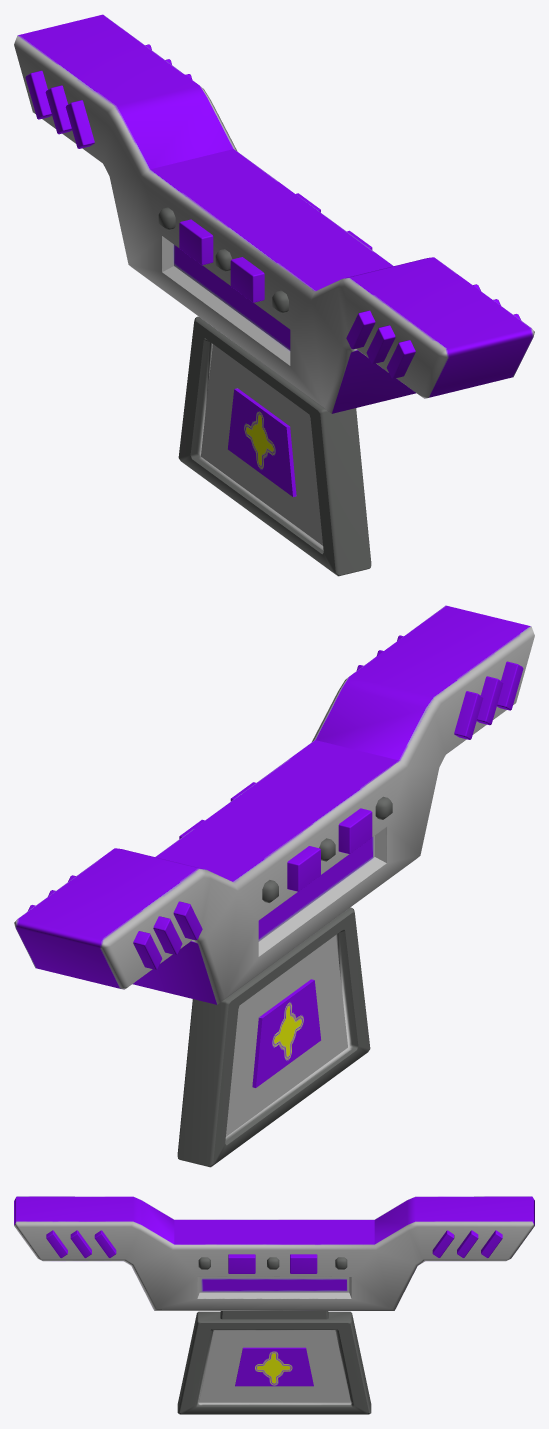
The model's file is SM_Props_16.fbx.
3 views of the same model, one above another, from view 1: azimuth 30°, elevation 25°; view 2: azimuth 150°, elevation 25°; view 3: azimuth 270°, elevation 25° (orthographic). The views are drawn at different scales.
Parts seen in each view (by area): view 1: SM_Props_16; view 2: SM_Props_16; view 3: SM_Props_16.
Boxes of the visible parts, x1,y1,x2,y2 form: SM_Props_16: (14,14,534,576); SM_Props_16: (14,605,534,1167); SM_Props_16: (14,1196,534,1414).
Size of the model in its own units: 22.48 by 140 by 59.61.
1 material, 1 textured.
